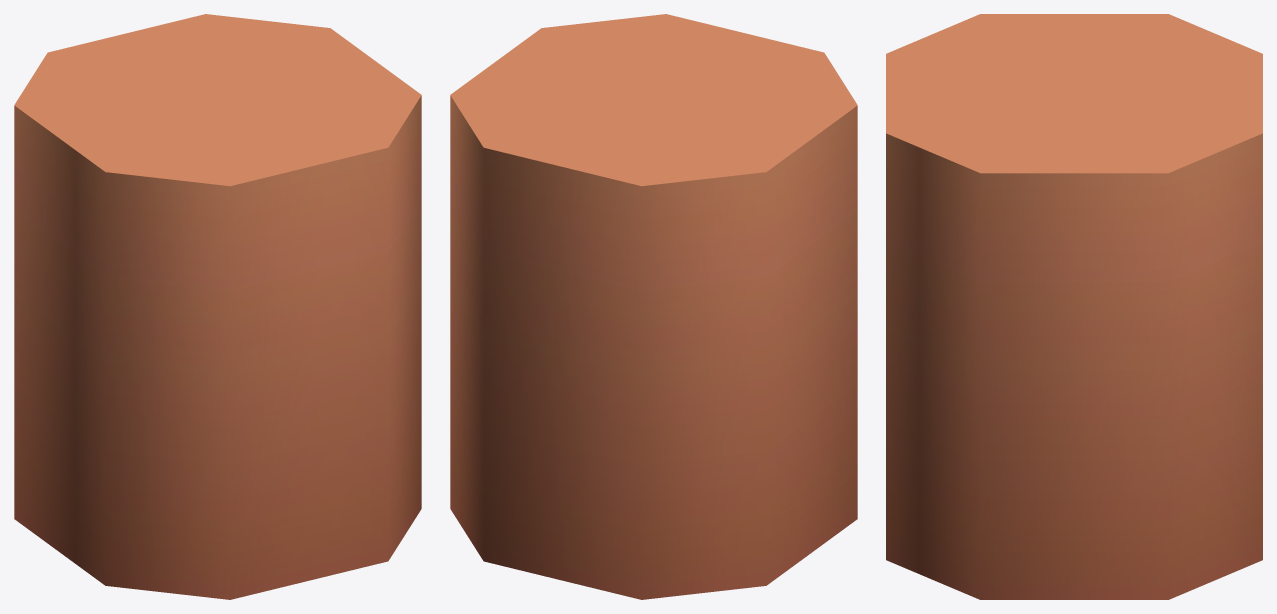
Rendered from support-low.glb.
The picture shows the model from 3 angles, left to right: view 1: azimuth 30°, elevation 25°; view 2: azimuth 150°, elevation 25°; view 3: azimuth 270°, elevation 25°; orthographic projection. The views are drawn at different scales.
Parts seen in each view (by area): view 1: support-low; view 2: support-low; view 3: support-low.
Part boxes in pixels (x1,y1,x2,y2): support-low: [14, 14, 421, 599]; support-low: [450, 14, 857, 599]; support-low: [886, 14, 1262, 599].
Bounding box in the file's own units: 0.4 × 0.5 × 0.4.
Materials: 1 (1 with a texture image).
